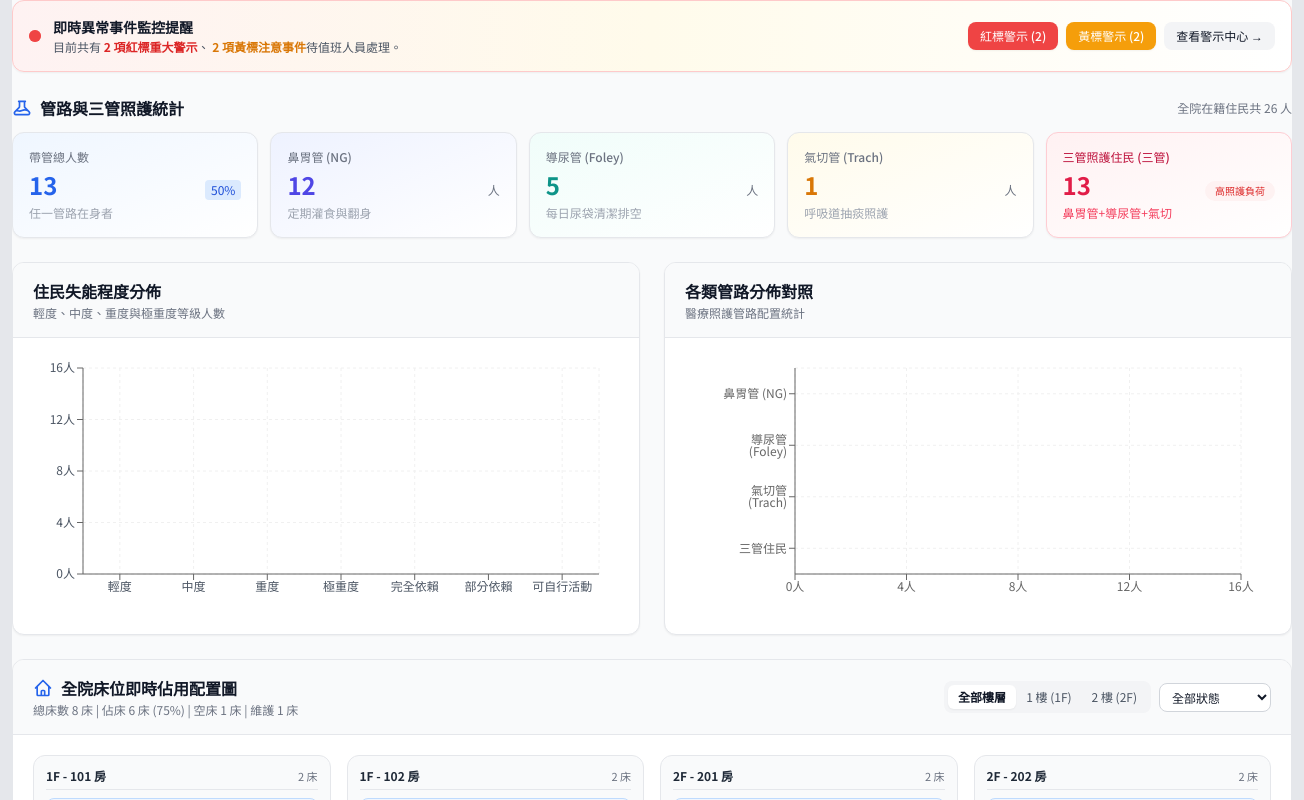
Test: ResidentSummaryView Integration Tests › filters beds by status (occupied vs vacant vs maintenance)
// Filter to vacant beds
Select "僅空床" in the dropdown named "床位狀態篩選": (1215, 697) left=1159, top=682, right=1271, bottom=712
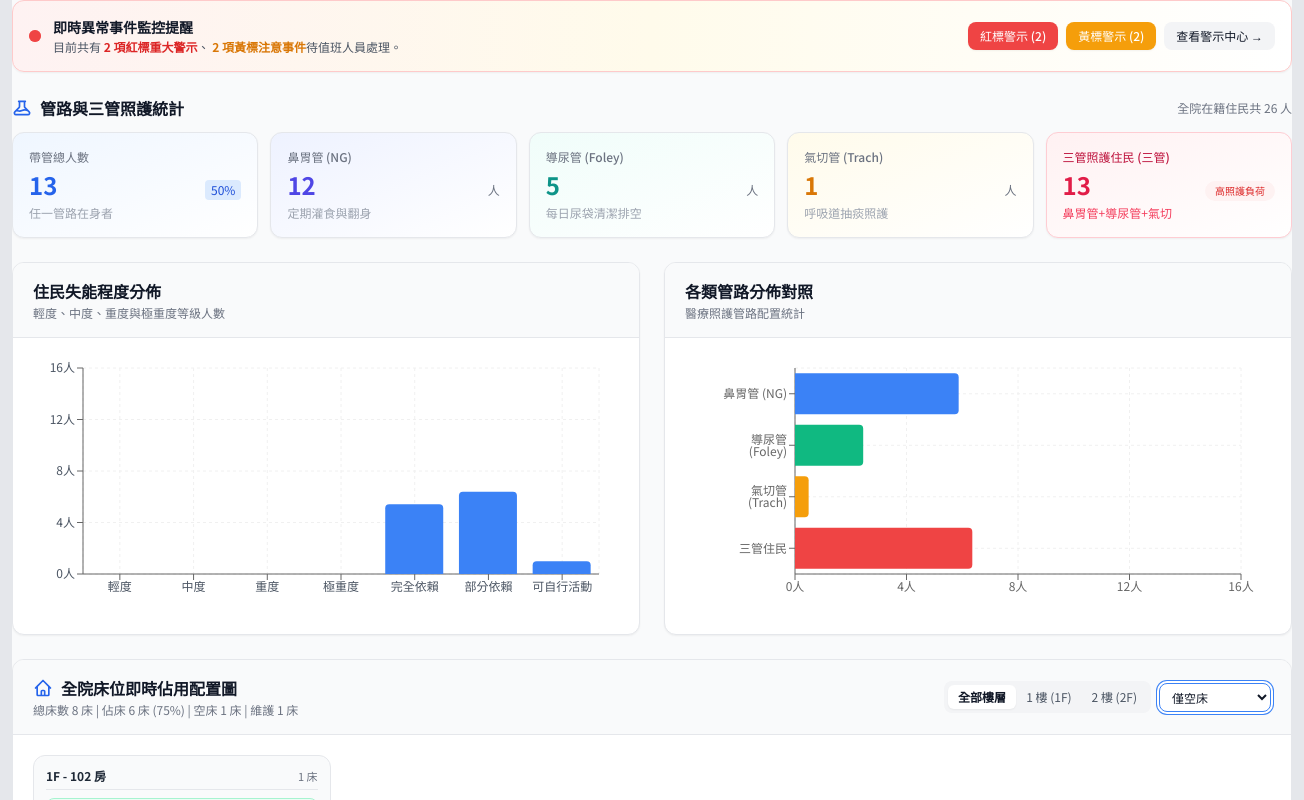
// Filter to maintenance beds
Select "僅維護" in the dropdown named "床位狀態篩選": (1215, 697) left=1159, top=682, right=1271, bottom=712
(page scrolled)
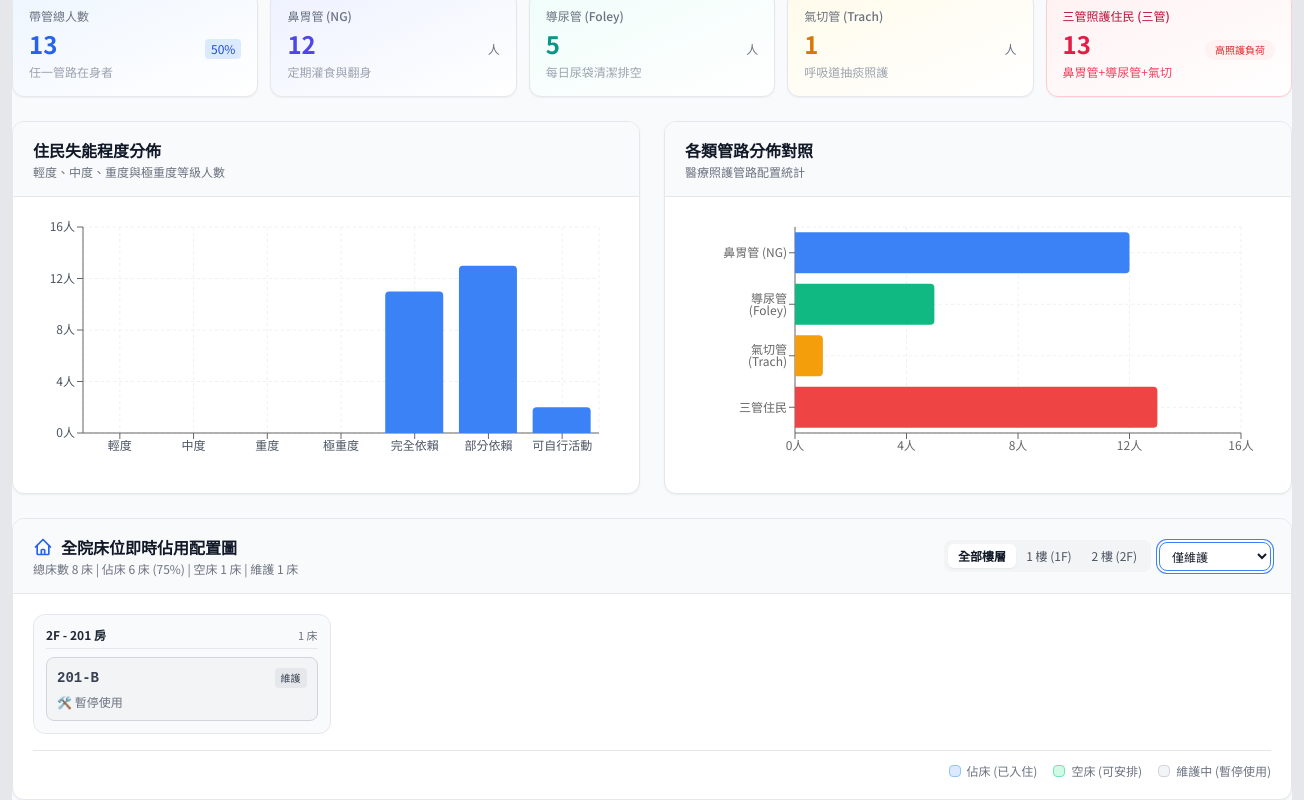
Check: the element with test id "bed-card-201-B" is shown, box left=46, top=656, right=318, bottom=720
